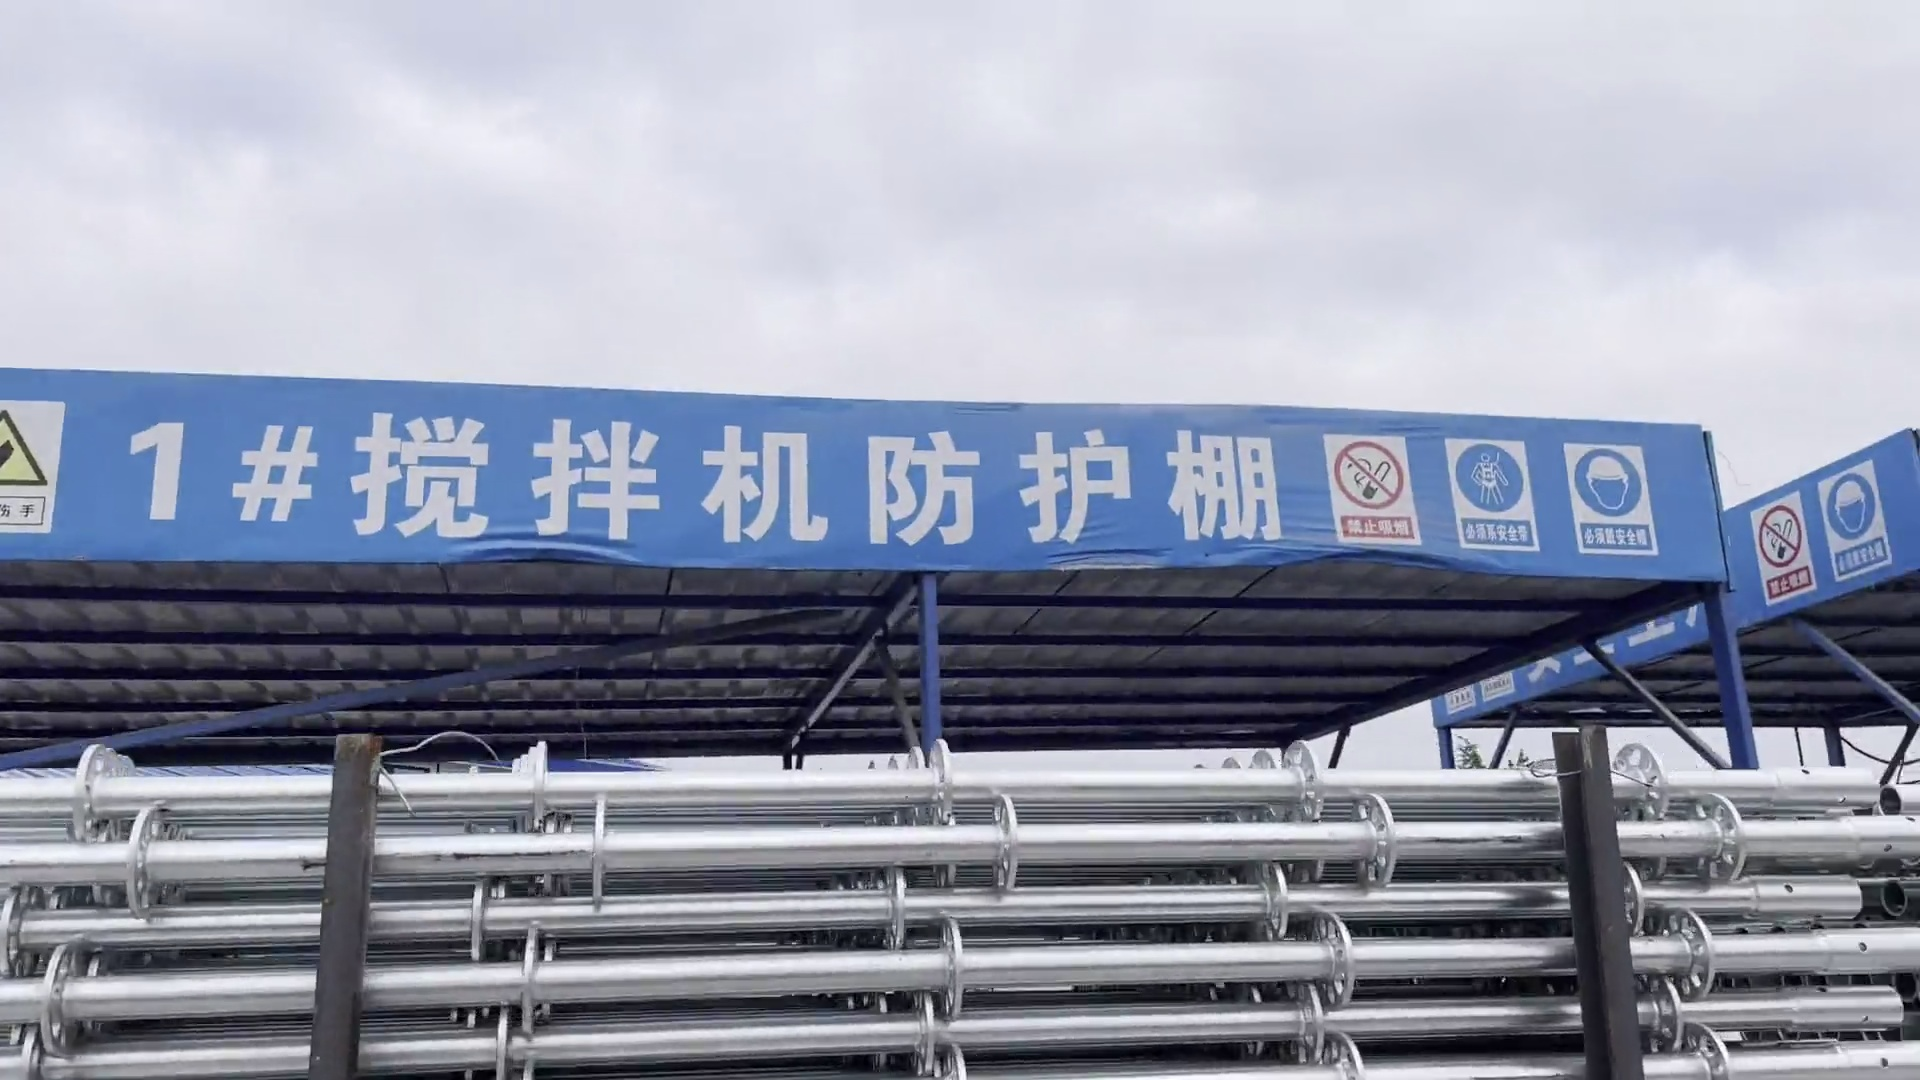scaffold: (4, 749, 1887, 1080)
